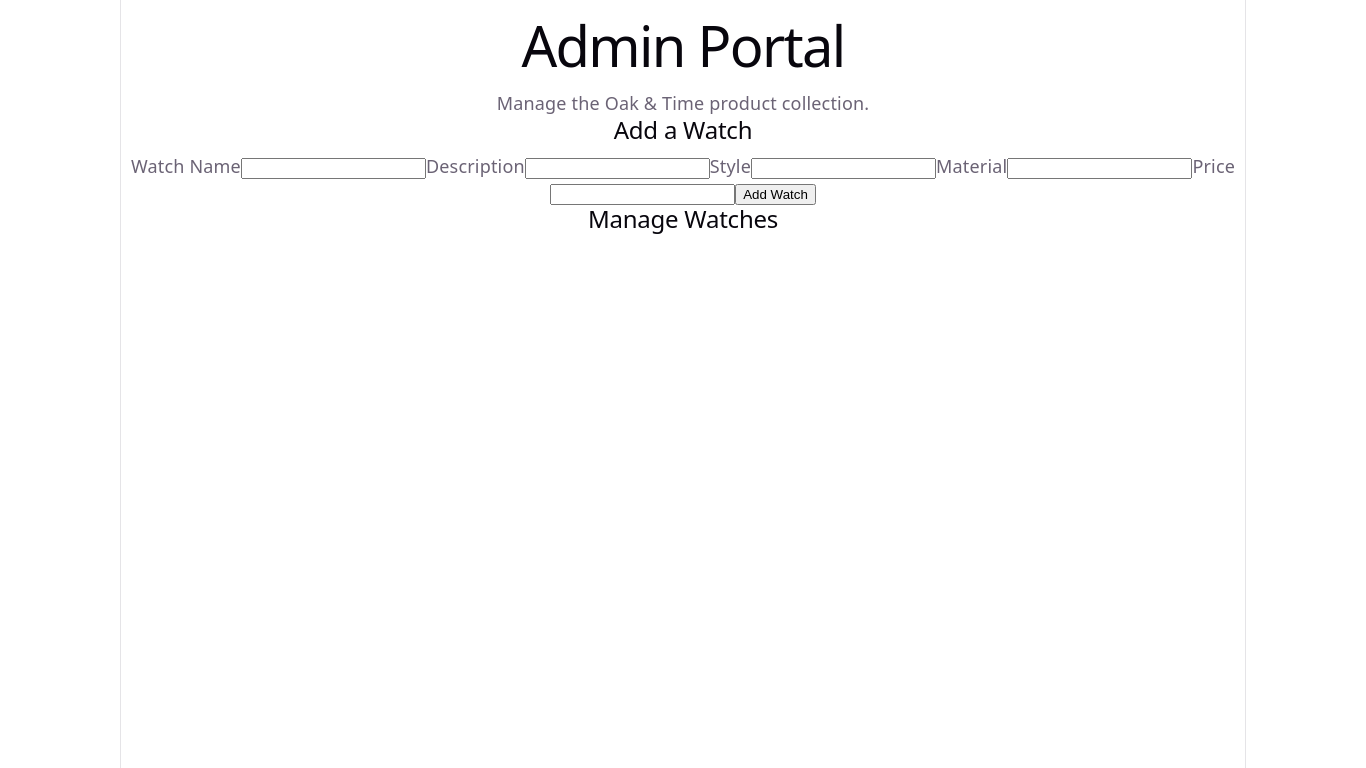
Test case: allows the administrator to add a new watch
Note: Fill in the required product fields.
In the field labelled "Watch Name": {"x": 333, "y": 168} [241,158,426,178], type "Royal Oak"
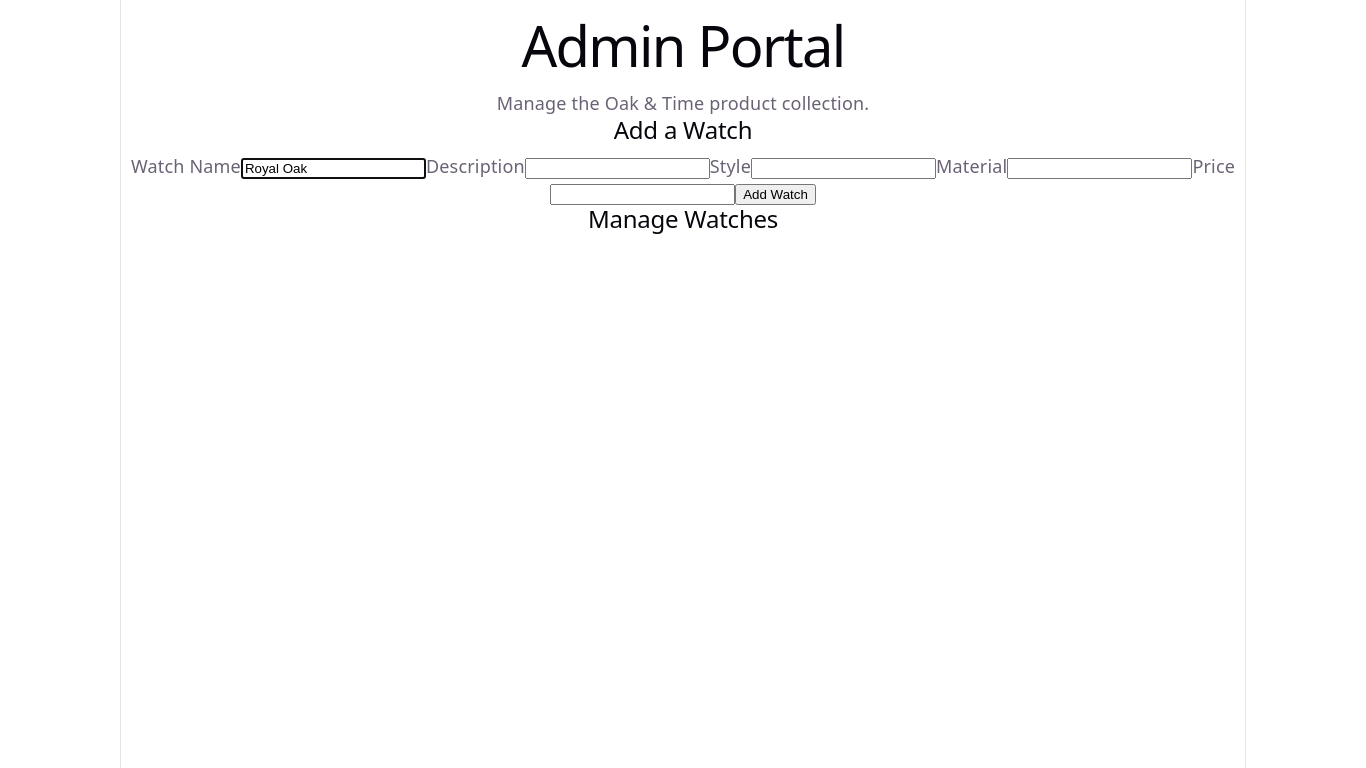
In the field labelled "Description": {"x": 617, "y": 168} [525,158,710,178], type "A sophisticated everyday timepiece."
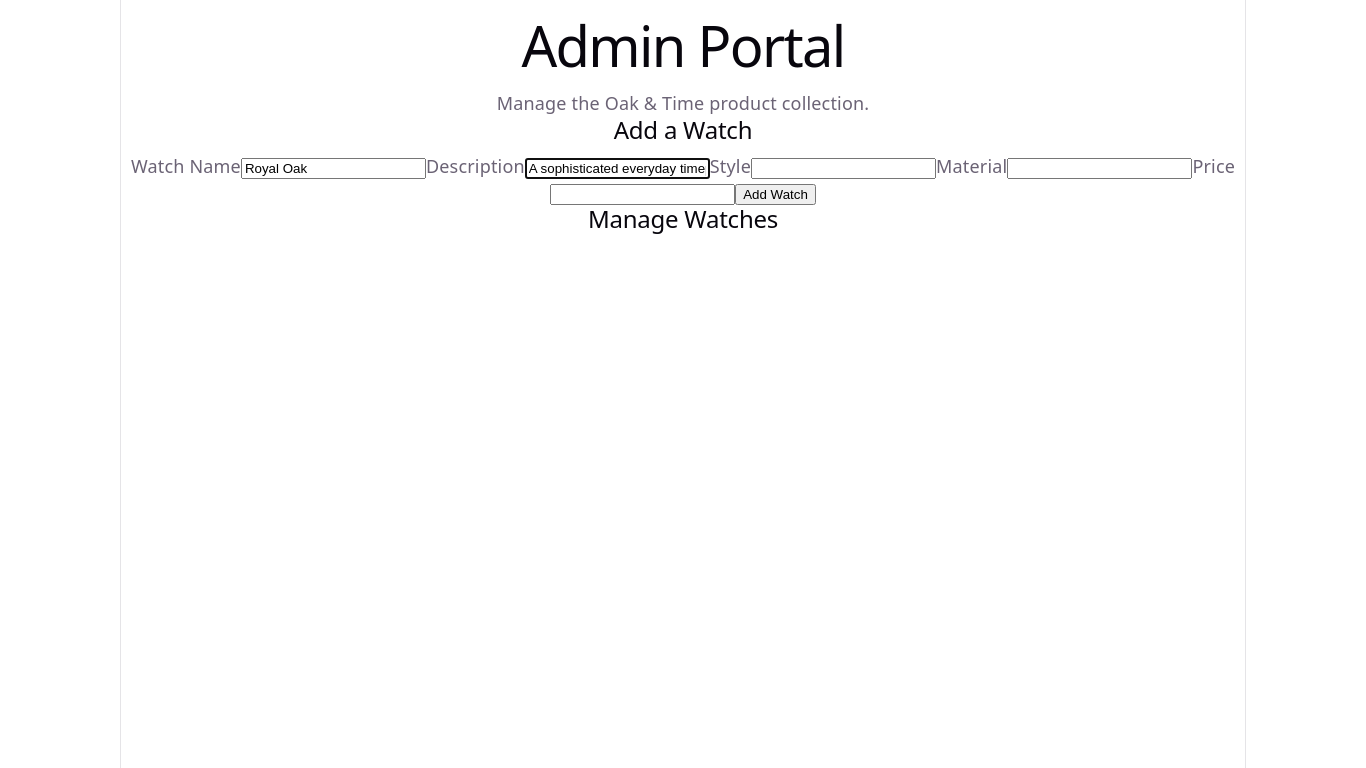
In the field labelled "Style": {"x": 844, "y": 168} [751,158,936,178], type "Luxury"
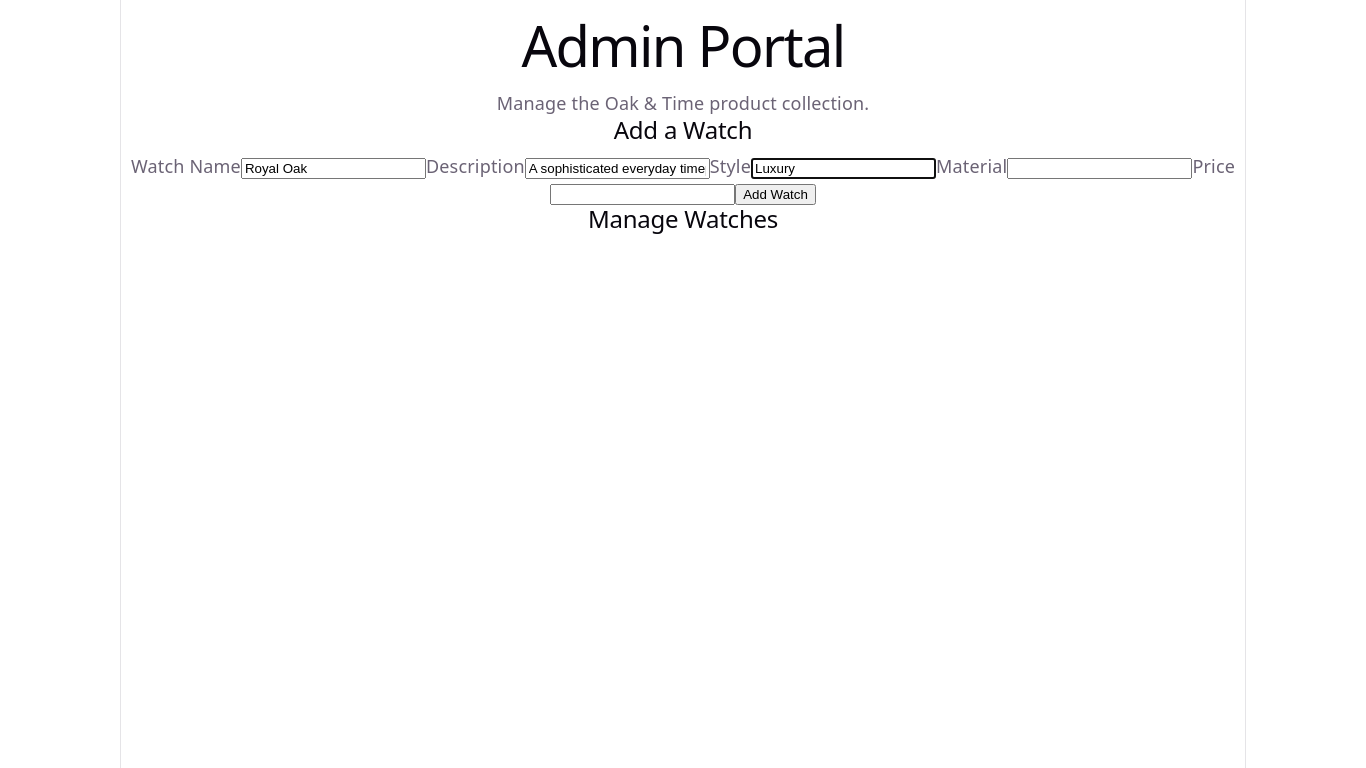
In the field labelled "Material": {"x": 1100, "y": 168} [1007,158,1192,178], type "Stainless Steel"
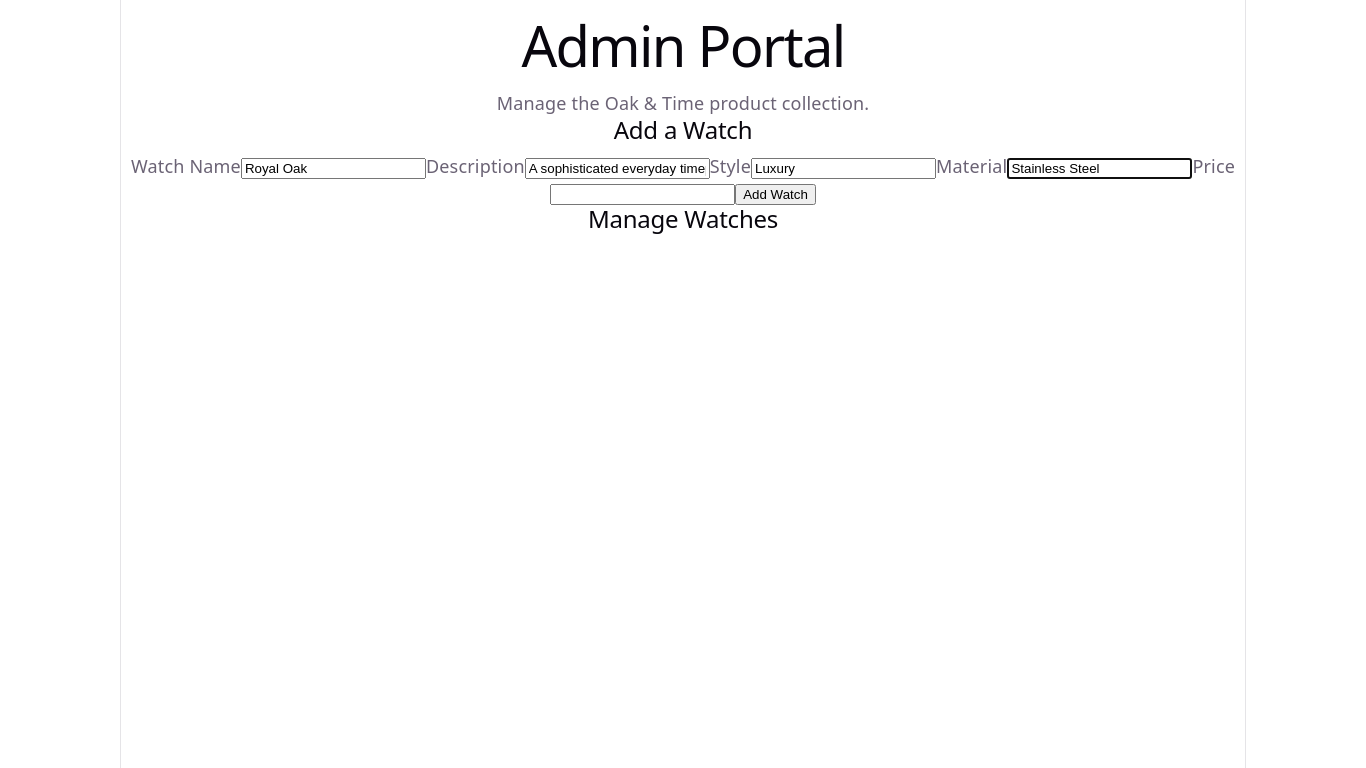
In the number field labelled "Price": {"x": 643, "y": 194} [550,184,735,205], type "279.99"
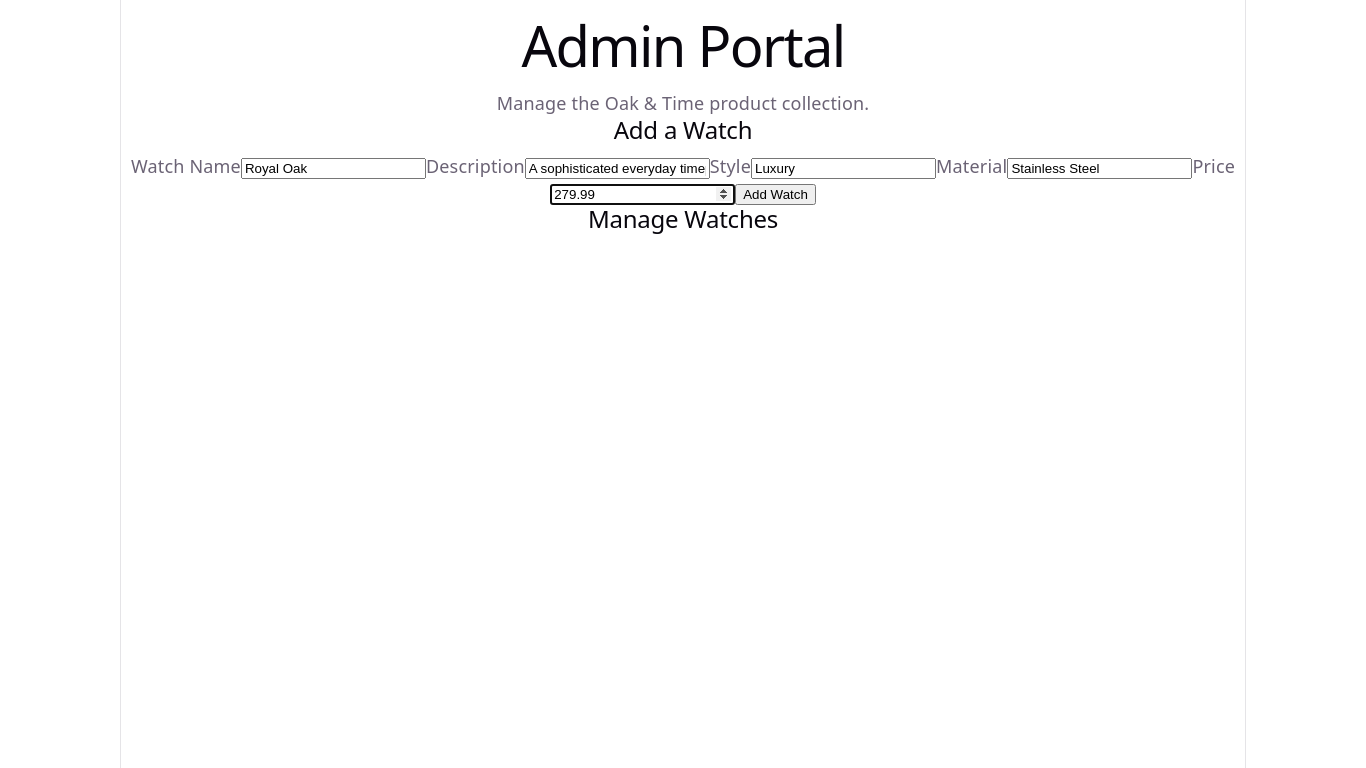
Note: Submit the form.
Click the button "Add Watch": {"x": 775, "y": 194} [735,184,816,205]
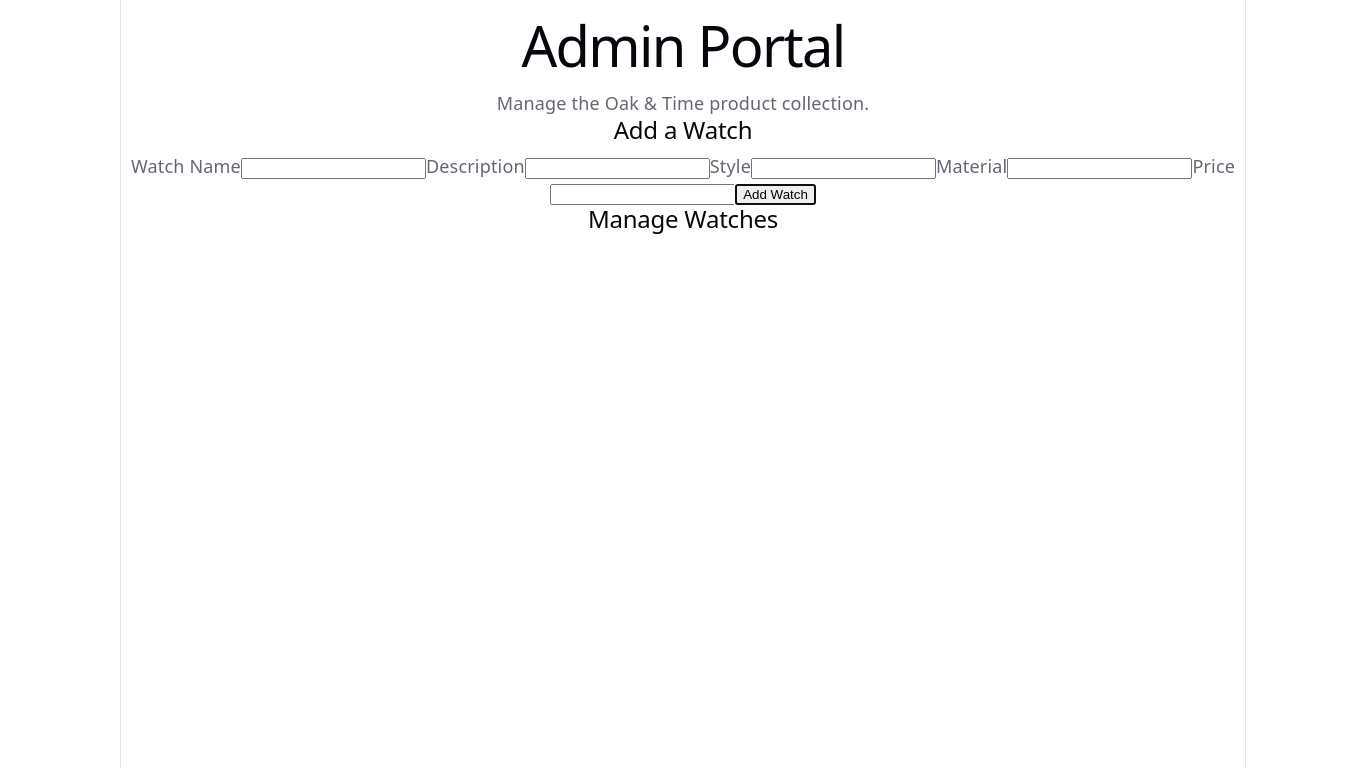
Expected: the field labelled "Watch Name" is empty, [241,158,426,178]
Expected: the number field labelled "Price" is not empty, [550,184,735,205]
